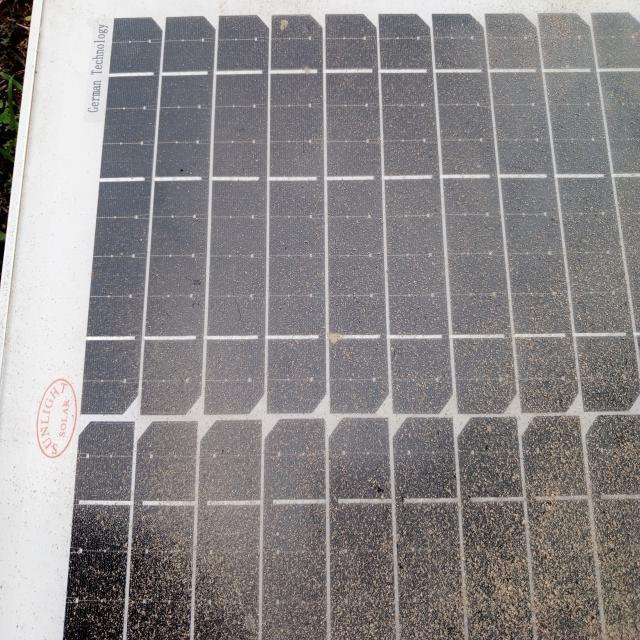Anomaly Solar Panel: (105, 8, 639, 482)
Surface Contaminant: (105, 8, 639, 482)
